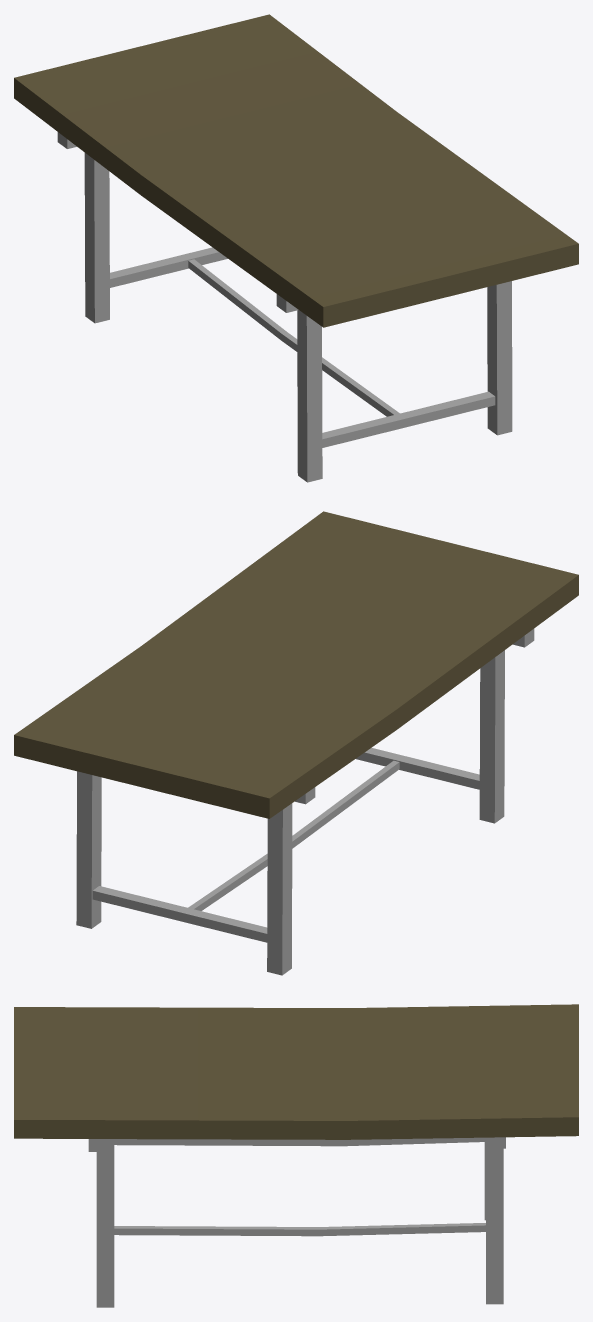
The model's file is Ban2.fbx.
3 renders of one model, top to bottom at view 1: azimuth 30°, elevation 25°; view 2: azimuth 150°, elevation 25°; view 3: azimuth 270°, elevation 25°, orthographic. The views are drawn at different scales.
Visible parts, largest first — view 1: pasted__pCube7; view 2: pasted__pCube7; view 3: pasted__pCube7.
Boxes of the visible parts, x1,y1,x2,y2 form: pasted__pCube7: (14,14,578,482); pasted__pCube7: (14,511,578,975); pasted__pCube7: (14,1004,578,1307).
Bounding box in the file's own units: 55.36 × 45.47 × 116.
